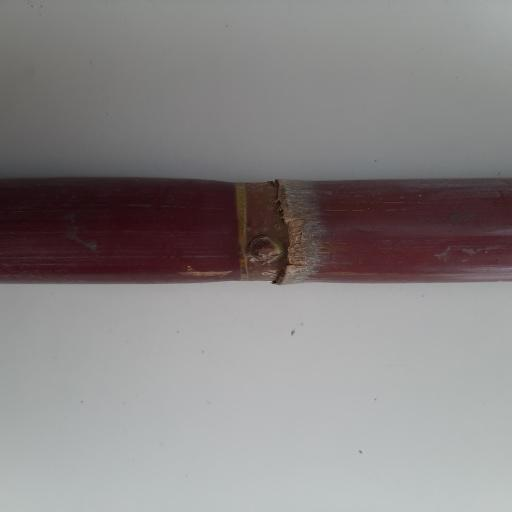Bud: (247, 235, 284, 263)
